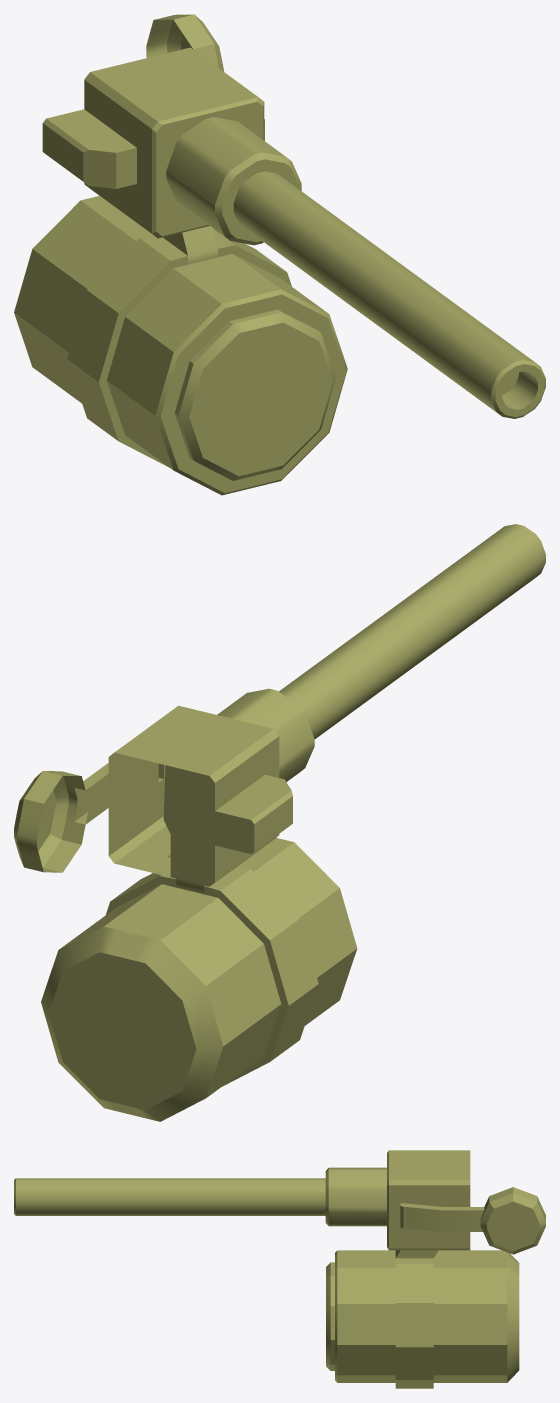
Rendered from weapon_machinegun_low.fbx.
3 renders of one model, top to bottom at view 1: azimuth 30°, elevation 25°; view 2: azimuth 150°, elevation 25°; view 3: azimuth 270°, elevation 25°, orthographic. The views are drawn at different scales.
Parts seen in each view (by area): view 1: machine_gun_low; view 2: machine_gun_low; view 3: machine_gun_low.
Boxes of the visible parts, x1=… form: machine_gun_low: x1=14, y1=14, x2=545, y2=495; machine_gun_low: x1=14, y1=524, x2=545, y2=1121; machine_gun_low: x1=14, y1=1150, x2=545, y2=1388.
Bounding box in the file's own units: 1.26 × 2.05 × 4.62.
